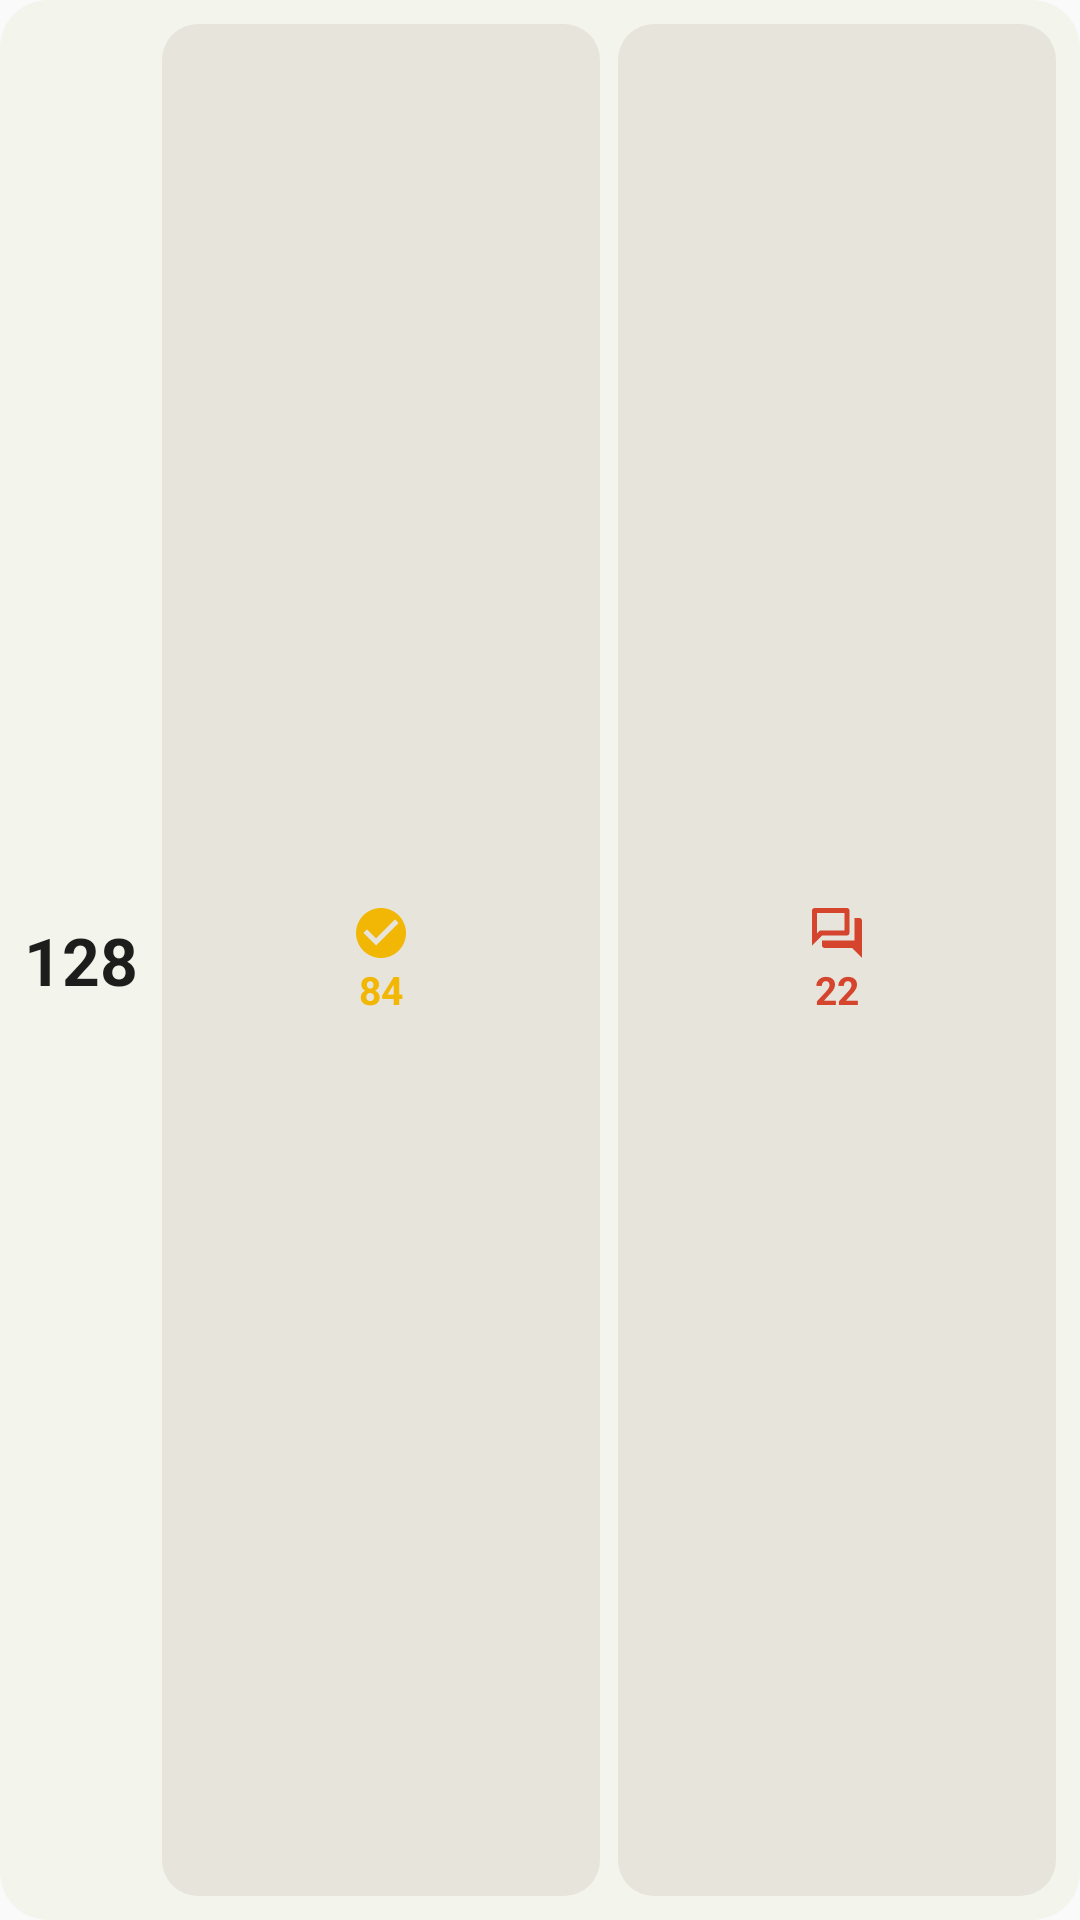

Icon bounding boxes for this 1080px x 1920px phone screenshot, format [left=x1, top=y1, right=x2, bottom=y2]:
widget question: [left=812, top=908, right=862, bottom=958]
